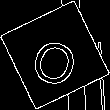O_N: (26, 24, 84, 86)
